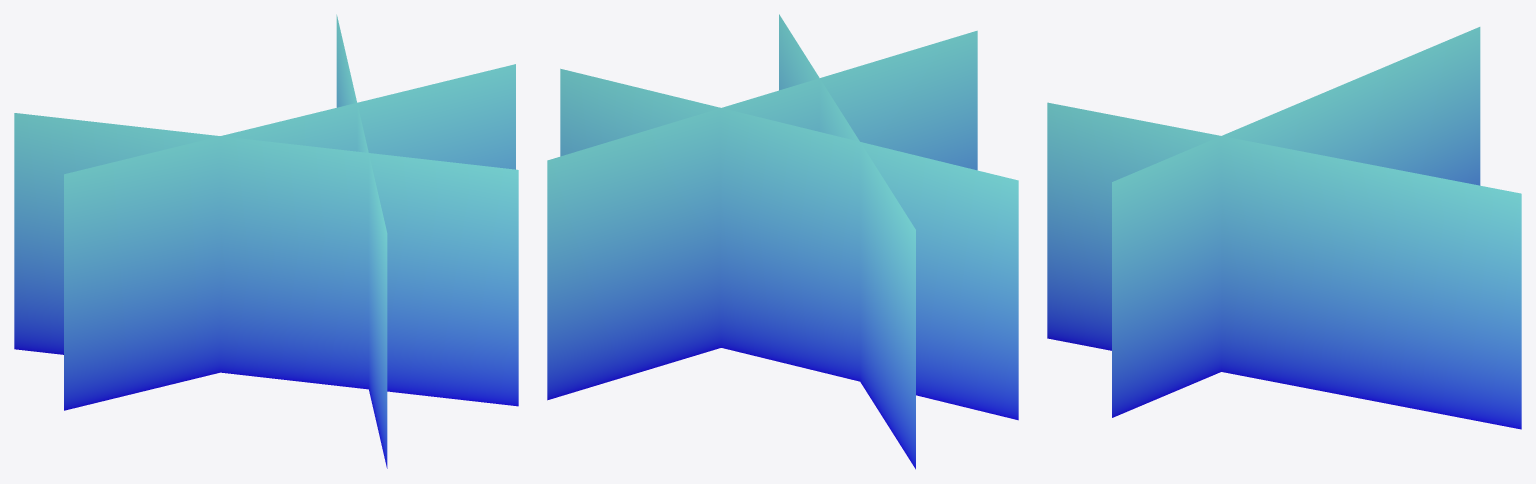
Rendered from SM_Env_Grass_Med_Clump_01.glb.
3 renders of one model, left to right at view 1: azimuth 30°, elevation 25°; view 2: azimuth 150°, elevation 25°; view 3: azimuth 270°, elevation 25°, orthographic.
Parts seen in each view (by area): view 1: SM_Env_Grass_Med_Clump_01_LOD0; view 2: SM_Env_Grass_Med_Clump_01_LOD0; view 3: SM_Env_Grass_Med_Clump_01_LOD0.
Part boxes in pixels (x1,y1,x2,y2): SM_Env_Grass_Med_Clump_01_LOD0: [14, 14, 518, 468]; SM_Env_Grass_Med_Clump_01_LOD0: [547, 14, 1018, 469]; SM_Env_Grass_Med_Clump_01_LOD0: [1047, 27, 1521, 429].
Size of what is drawn, in the model's own units: 1 by 0.5 by 0.9104.
